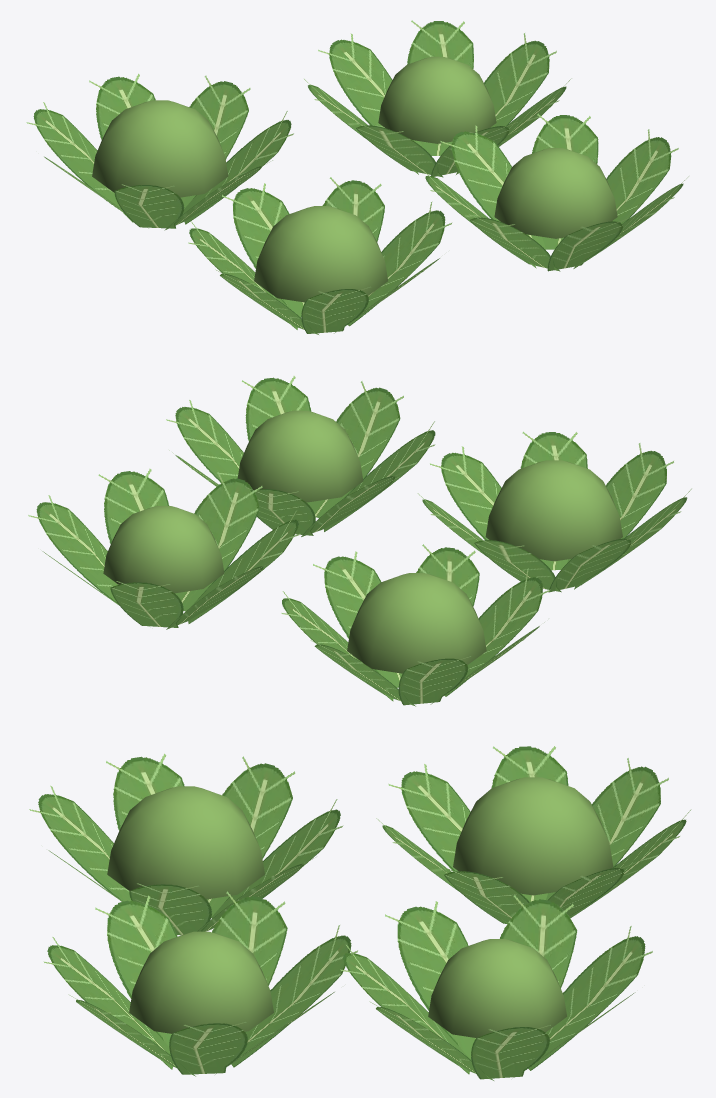
The model's file is crop_vegetable.glb.
3 views of the same model, one above another, from view 1: azimuth 30°, elevation 25°; view 2: azimuth 150°, elevation 25°; view 3: azimuth 270°, elevation 25° (orthographic). The views are drawn at different scales.
Parts seen in each view (by area): view 1: prop; view 2: prop; view 3: prop.
Part boxes in pixels (left/top/right/bottom): prop: left=26, top=20, right=688, bottom=334; prop: left=28, top=376, right=691, bottom=706; prop: left=29, top=746, right=691, bottom=1080.
Size of the model in its own units: 1.03 by 0.2181 by 1.02.
2 materials, 1 textured.
